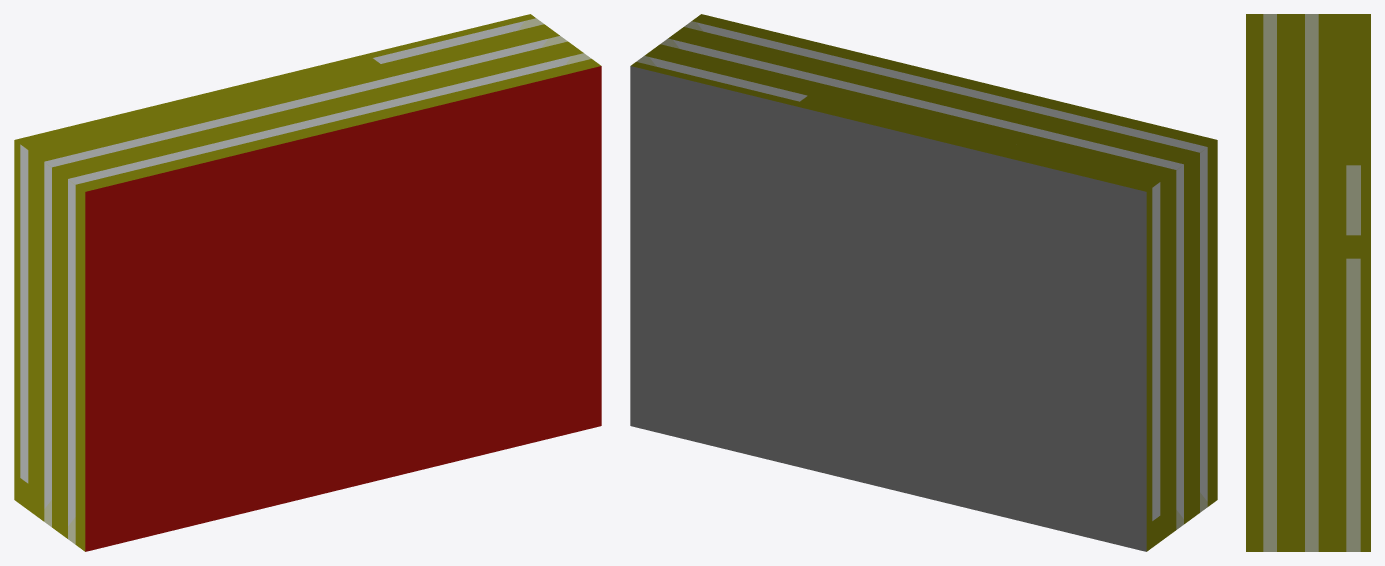
The model's file is idf.obj.
The picture shows the model from 3 angles, left to right: view 1: azimuth 30°, elevation 25°; view 2: azimuth 150°, elevation 25°; view 3: azimuth 270°, elevation 25°; orthographic projection. The views are drawn at different scales.
Bounding box in the file's own units: 49.91 × 33.27 × 11.89.
